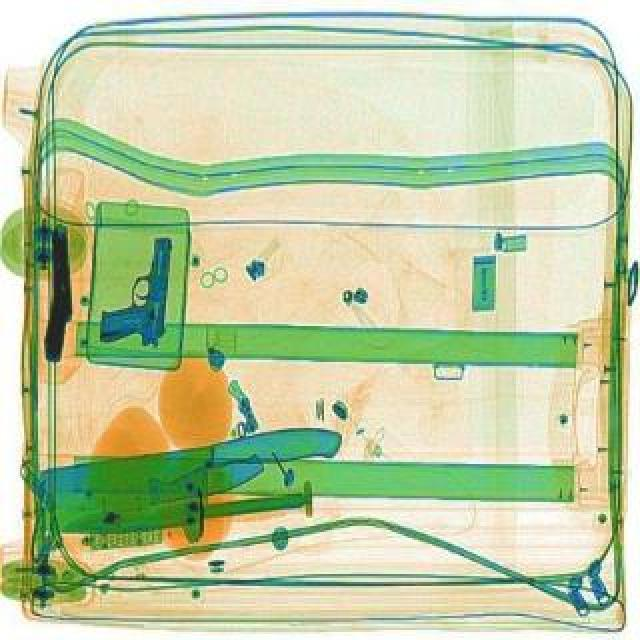gun: (98, 230, 172, 344), (40, 224, 76, 360)
knife: (34, 420, 350, 540), (42, 446, 266, 540), (56, 480, 304, 538)
